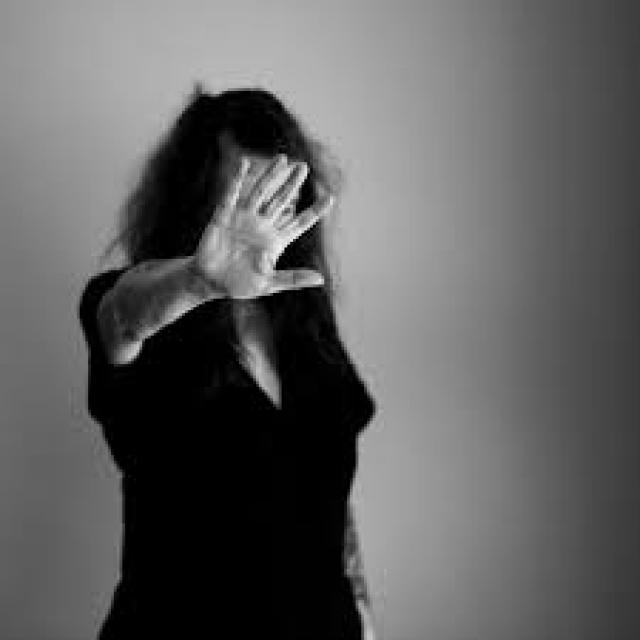7_mano_rostro: (183, 156, 302, 296)
